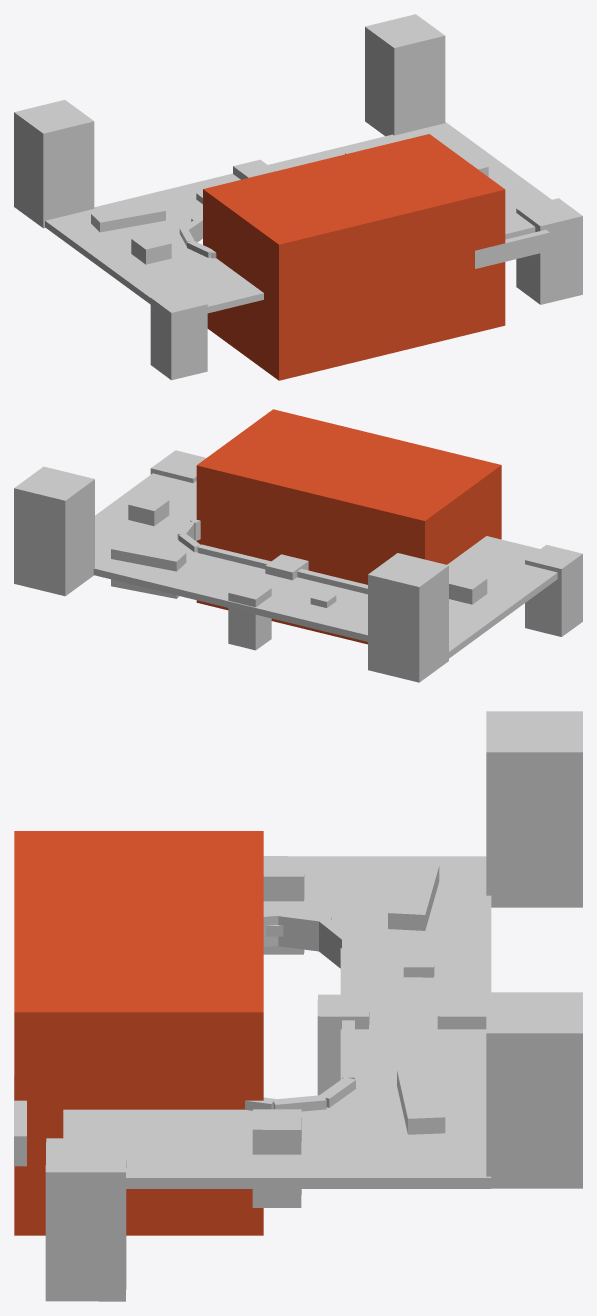
File: F_MAP2.fbx
3 renders of one model, top to bottom at view 1: azimuth 30°, elevation 25°; view 2: azimuth 150°, elevation 25°; view 3: azimuth 270°, elevation 25°, orthographic. The views are drawn at different scales.
Parts seen in each view (by area): view 1: Cube.123, Plane.007, Cube.073, Cube.074, Cube.077, Cube.078, Cube.053, Cube.083, Cube.081, Cube.065; view 2: Cube.123, Plane.007, Cube.073, Cube.074, Cube.078, Cube.065, Cube.103, Cube.069, Cube.077, Cube.084, Cube.081, Cube.075; view 3: Cube.123, Plane.007, Cube.073, Cube.074, Cube.077, Cube.084, Cube.075, Cube.083, Cube.103, Cube.081, Cube.065, Cube.069 (+4 smaller).
Part boxes in pixels (bbox=[...]): Cube.123: bbox=[203, 134, 505, 380]; Plane.007: bbox=[45, 122, 551, 313]; Cube.073: bbox=[14, 100, 94, 228]; Cube.074: bbox=[365, 14, 445, 136]; Cube.077: bbox=[516, 198, 582, 304]; Cube.078: bbox=[150, 289, 207, 380]; Cube.053: bbox=[475, 229, 549, 268]; Cube.083: bbox=[91, 202, 165, 232]; Cube.081: bbox=[131, 232, 171, 264]; Cube.065: bbox=[233, 159, 275, 179]; Cube.123: bbox=[196, 409, 501, 644]; Plane.007: bbox=[93, 473, 557, 658]; Cube.073: bbox=[368, 553, 448, 682]; Cube.074: bbox=[14, 466, 94, 596]; Cube.078: bbox=[525, 544, 582, 636]; Cube.065: bbox=[228, 581, 271, 650]; Cube.103: bbox=[111, 540, 186, 598]; Cube.069: bbox=[197, 544, 367, 594]; Cube.077: bbox=[150, 450, 205, 541]; Cube.084: bbox=[128, 494, 169, 525]; Cube.081: bbox=[449, 572, 487, 604]; Cube.075: bbox=[265, 554, 308, 580]; Cube.123: bbox=[14, 831, 263, 1235]; Plane.007: bbox=[63, 856, 491, 1188]; Cube.073: bbox=[486, 711, 582, 907]; Cube.074: bbox=[486, 992, 582, 1188]; Cube.077: bbox=[45, 1138, 126, 1301]; Cube.084: bbox=[252, 1109, 301, 1207]; Cube.075: bbox=[317, 994, 369, 1095]; Cube.083: bbox=[388, 864, 439, 930]; Cube.103: bbox=[397, 1068, 445, 1134]; Cube.081: bbox=[263, 856, 304, 954]; Cube.065: bbox=[437, 994, 486, 1029]; Cube.069: bbox=[342, 932, 354, 1079].
Size of the model in its own units: 1387 by 534 by 1021.
